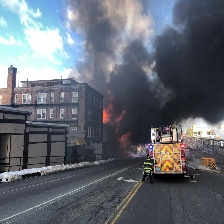fire: (101, 110, 113, 123)
smoke: (70, 3, 224, 131)
